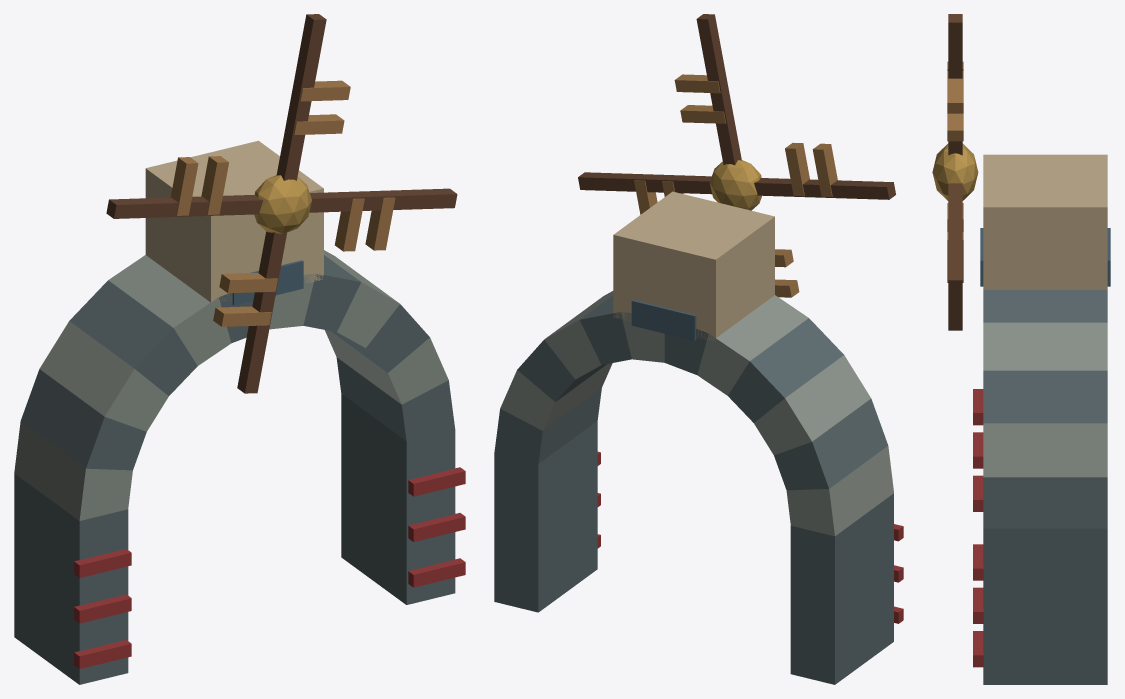
The model's file is PirateCove_WindmillGate_Standard.glb.
The picture shows the model from 3 angles, left to right: view 1: azimuth 30°, elevation 25°; view 2: azimuth 150°, elevation 25°; view 3: azimuth 270°, elevation 25°; orthographic projection. The views are drawn at different scales.
Parts seen in each view (by area): view 1: PirateCove_WindmillGate_Standard; view 2: PirateCove_WindmillGate_Standard; view 3: PirateCove_WindmillGate_Standard.
Part boxes in pixels (x1,y1,x2,y2): PirateCove_WindmillGate_Standard: (14, 14, 465, 684); PirateCove_WindmillGate_Standard: (494, 14, 903, 684); PirateCove_WindmillGate_Standard: (932, 14, 1110, 684).
Bounding box in the file's own units: 2.22 × 3.44 × 0.93.
